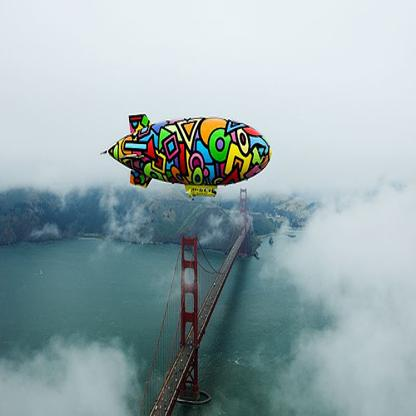Airship: (98, 110, 277, 202)
